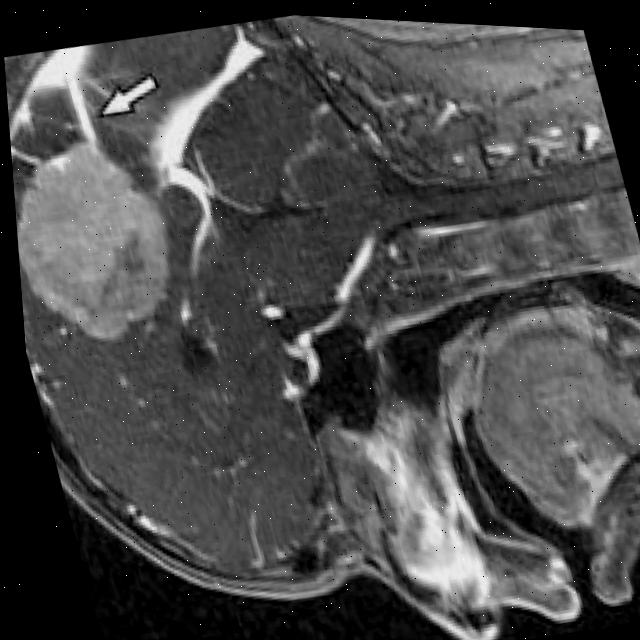Meningioma: (8, 108, 193, 361)
